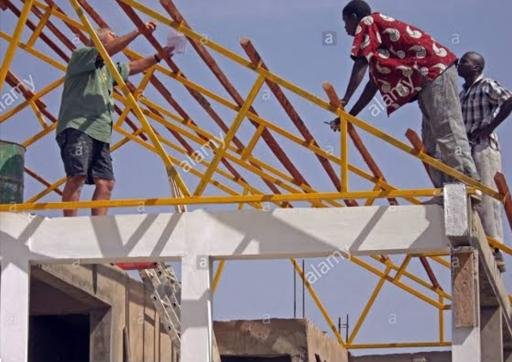unsafe person: (320, 1, 463, 192), (58, 29, 134, 197), (452, 48, 506, 260)
